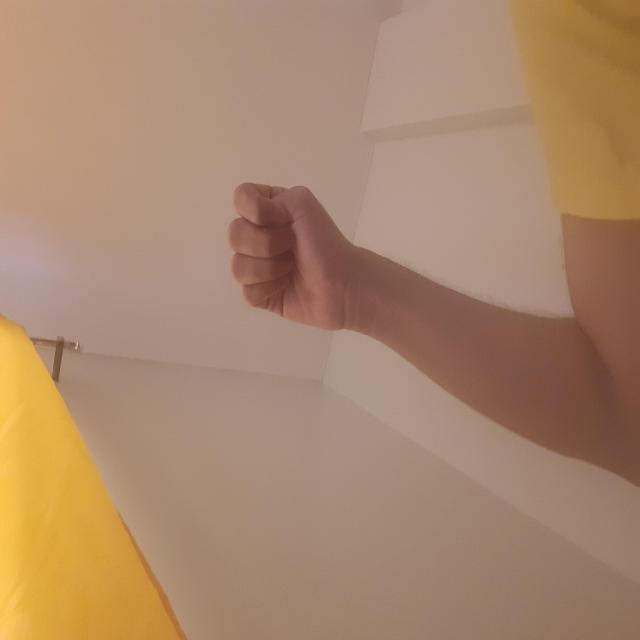A: (312, 228, 459, 342)
